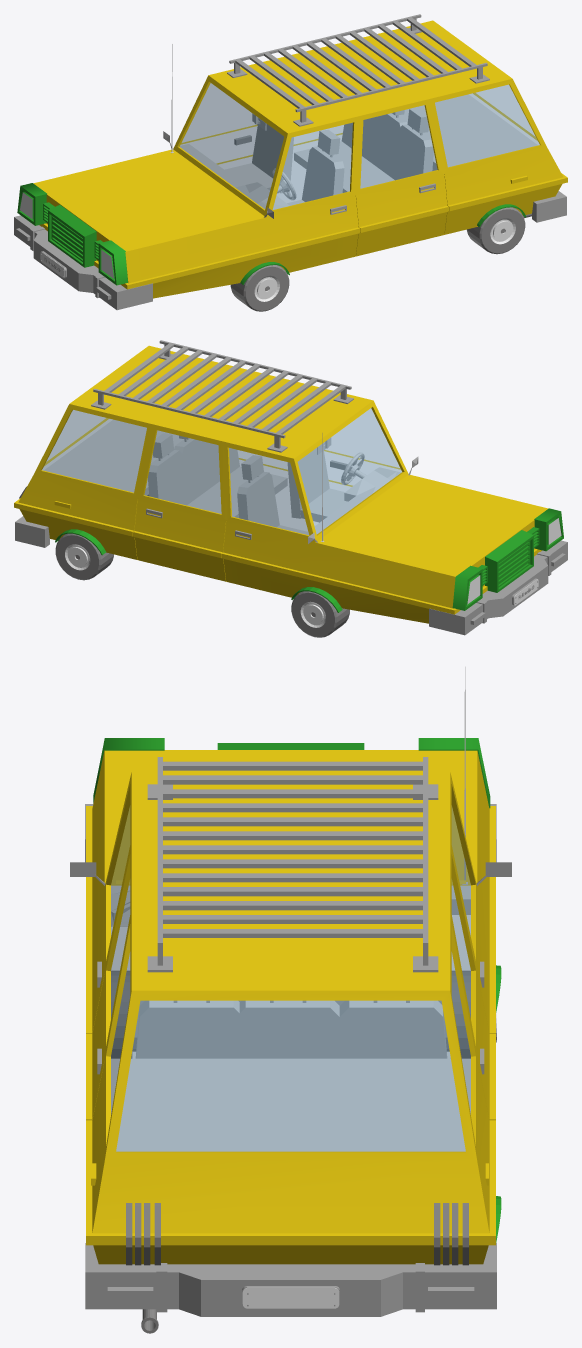
The model's file is Instacart_Project_car_Yellow.gltf.
The picture shows the model from 3 angles, top to bottom: view 1: azimuth 30°, elevation 25°; view 2: azimuth 150°, elevation 25°; view 3: azimuth 270°, elevation 25°; orthographic projection. The views are drawn at different scales.
Visible parts, largest first — view 1: body-Orange, body-Glass, hood, back (×2), front, seat01, ventilation, seat03, seat04, seat02, TIRE01-Black, TIRE03-Black (+7 smaller); view 2: body-Orange, body-Glass, hood, back (×2), front, seat01, ventilation, seat02, seat05, seat04, TIRE02-Black, TIRE04-Black (+7 smaller); view 3: body-Orange, body-Glass, back (×2), hood, seat03, seat05, seat04, car, number plate white, TIRE01-Black, TIRE02-Black, ventilation (+4 smaller).
Part boxes in pixels (box(x1,y1,x2,y2)): body-Orange: box(33, 20, 567, 298); body-Glass: box(180, 83, 539, 209); hood: box(227, 14, 489, 126); back (×2): box(400, 94, 566, 222); front: box(14, 215, 152, 310); seat01: box(287, 130, 344, 205); ventilation: box(43, 202, 102, 267); seat03: box(344, 108, 433, 192); seat04: box(342, 110, 407, 192); seat02: box(225, 124, 293, 193); TIRE01-Black: box(230, 265, 289, 311); TIRE03-Black: box(467, 207, 525, 254); body-Orange: box(14, 345, 548, 623); body-Glass: box(42, 408, 401, 534); hood: box(91, 340, 353, 452); back (×2): box(15, 419, 183, 547); front: box(429, 540, 567, 635); seat01: box(287, 448, 347, 522); ventilation: box(478, 527, 539, 592); seat02: box(237, 455, 306, 533); seat05: box(148, 433, 237, 517); seat04: box(174, 435, 238, 517); TIRE02-Black: box(291, 591, 349, 637); TIRE04-Black: box(55, 533, 113, 580); body-Orange: box(86, 750, 495, 1264); body-Glass: box(111, 806, 470, 1151); back (×2): box(85, 1058, 496, 1316); hood: box(147, 757, 438, 972); seat03: box(132, 1000, 246, 1058); seat05: box(337, 1000, 450, 1058); seat04: box(233, 1000, 342, 1058); car: box(126, 1203, 468, 1265); number plate white: box(242, 1287, 339, 1308); TIRE01-Black: box(111, 970, 137, 1058); TIRE02-Black: box(445, 970, 470, 1058); ventilation: box(217, 743, 364, 749).
Size of the model in its own units: 87.67 by 35.4 by 35.5.
